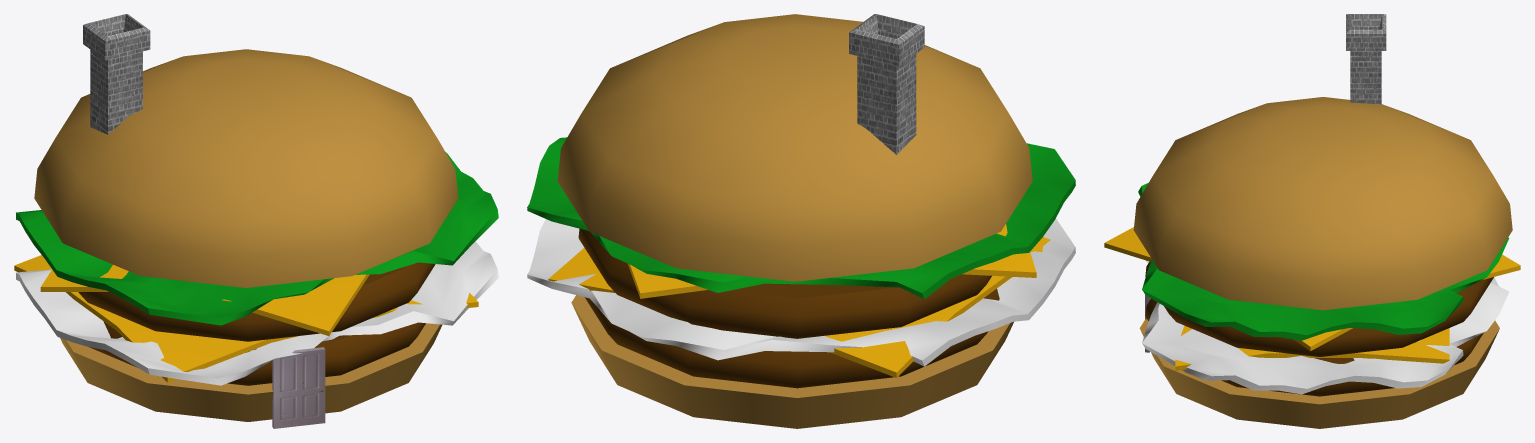
File: Burger.FBX
3 renders of one model, left to right at view 1: azimuth 30°, elevation 25°; view 2: azimuth 150°, elevation 25°; view 3: azimuth 270°, elevation 25°, orthographic. The views are drawn at different scales.
Visible parts, largest first — view 1: Cylinder013, Box057, Box058, Cylinder014, Cylinder018, Box061, Box056, Box059, Box060, Cylinder015; view 2: Cylinder013, Cylinder014, Box058, Cylinder018, Box057, Cylinder015, Box061, Box056, Box059; view 3: Cylinder013, Box058, Cylinder014, Box057, Cylinder018, Box061, Box056, Box059, Cylinder015.
Boxes of the visible parts, <box> form: Cylinder013: <box>34,49,458,287</box>; Box057: <box>16,152,498,325</box>; Box058: <box>16,241,498,385</box>; Cylinder014: <box>60,323,442,421</box>; Cylinder018: <box>78,262,435,341</box>; Box061: <box>83,14,150,134</box>; Box056: <box>14,255,478,382</box>; Box059: <box>40,264,369,335</box>; Box060: <box>272,347,325,428</box>; Cylinder015: <box>89,321,425,385</box>; Cylinder013: <box>557,14,1032,281</box>; Cylinder014: <box>571,295,1013,428</box>; Box058: <box>527,218,1075,366</box>; Cylinder018: <box>578,228,991,338</box>; Box057: <box>527,137,1075,299</box>; Cylinder015: <box>585,288,999,388</box>; Box061: <box>849,14,924,154</box>; Box056: <box>548,237,1050,377</box>; Box059: <box>628,224,1036,298</box>; Cylinder013: <box>1133,97,1512,310</box>; Box058: <box>1142,260,1508,394</box>; Cylinder014: <box>1139,319,1499,428</box>; Box057: <box>1138,183,1509,340</box>; Cylinder018: <box>1145,261,1493,356</box>; Box061: <box>1346,14,1386,104</box>; Box056: <box>1175,325,1449,370</box>; Box059: <box>1104,227,1520,351</box>; Cylinder015: <box>1145,298,1483,396</box>.
Bounding box in the file's own units: 48.26 × 37.13 × 46.74.
6 materials, 2 textured.
